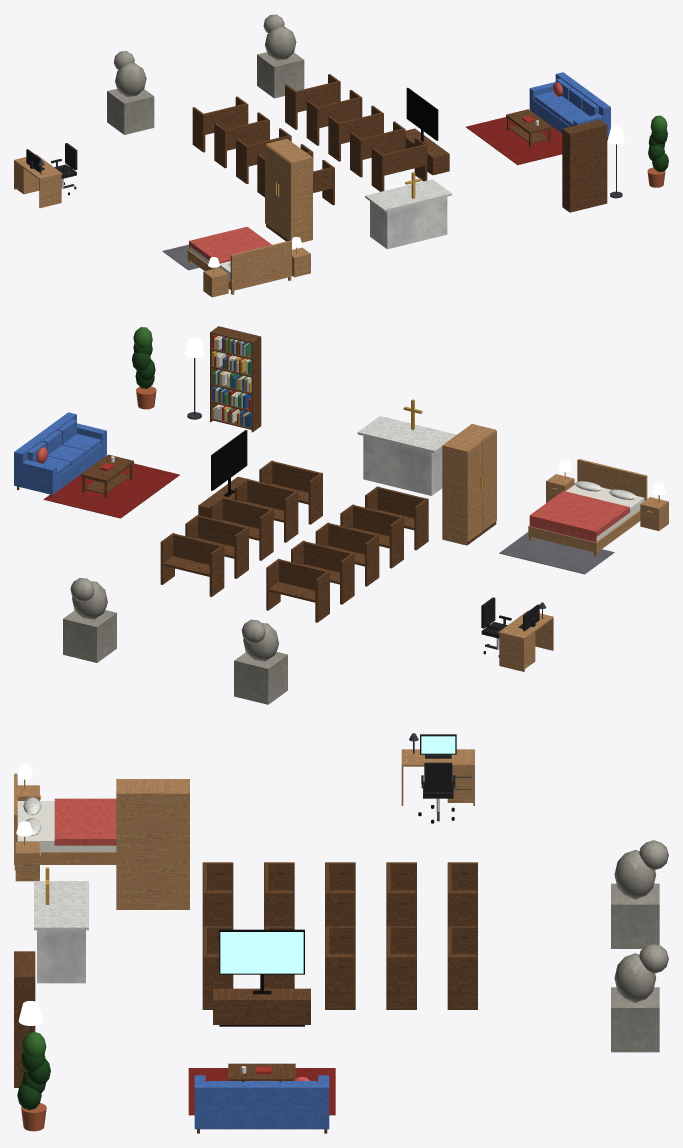
The model's file is i_beijing_siheyuan_gate.gltf.
3 renders of one model, top to bottom at view 1: azimuth 30°, elevation 25°; view 2: azimuth 150°, elevation 25°; view 3: azimuth 270°, elevation 25°, orthographic. The views are drawn at different scales.
Parts seen in each view (by area): view 1: I_beijing_siheyuan_gate; view 2: I_beijing_siheyuan_gate; view 3: I_beijing_siheyuan_gate.
Part boxes in pixels (box(x1,y1,x2,y2)): I_beijing_siheyuan_gate: box(14, 14, 668, 297); I_beijing_siheyuan_gate: box(14, 326, 668, 704); I_beijing_siheyuan_gate: box(14, 733, 668, 1133).
Size of the model in its own units: 13.29 by 2.6 by 10.71.
28 materials, 10 textured.
